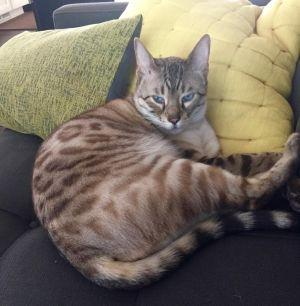bengal: (124, 32, 222, 141)
